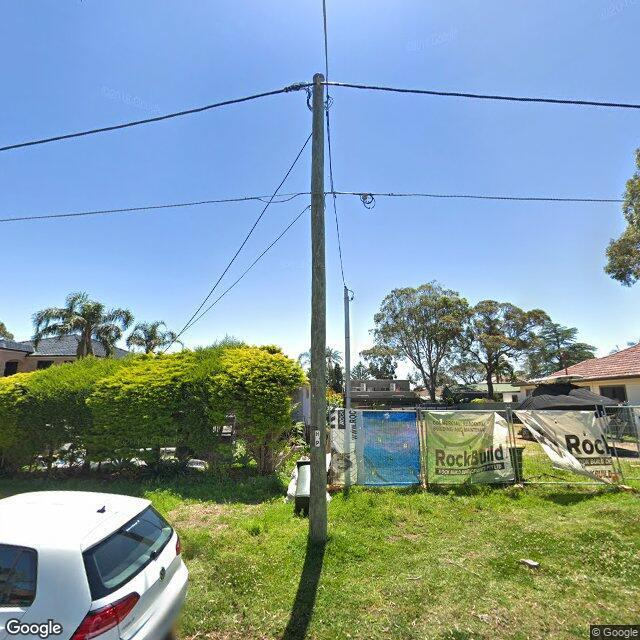steel-pole: (344, 286, 351, 409)
timber-pole: (308, 72, 328, 545)
